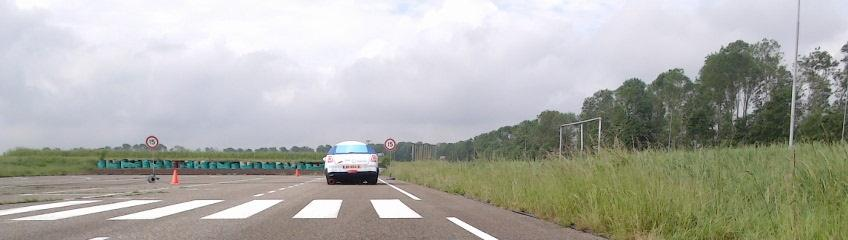Car: (325, 140, 378, 185)
Speed-limit-15km-h-: (145, 135, 158, 148), (385, 139, 396, 150)
